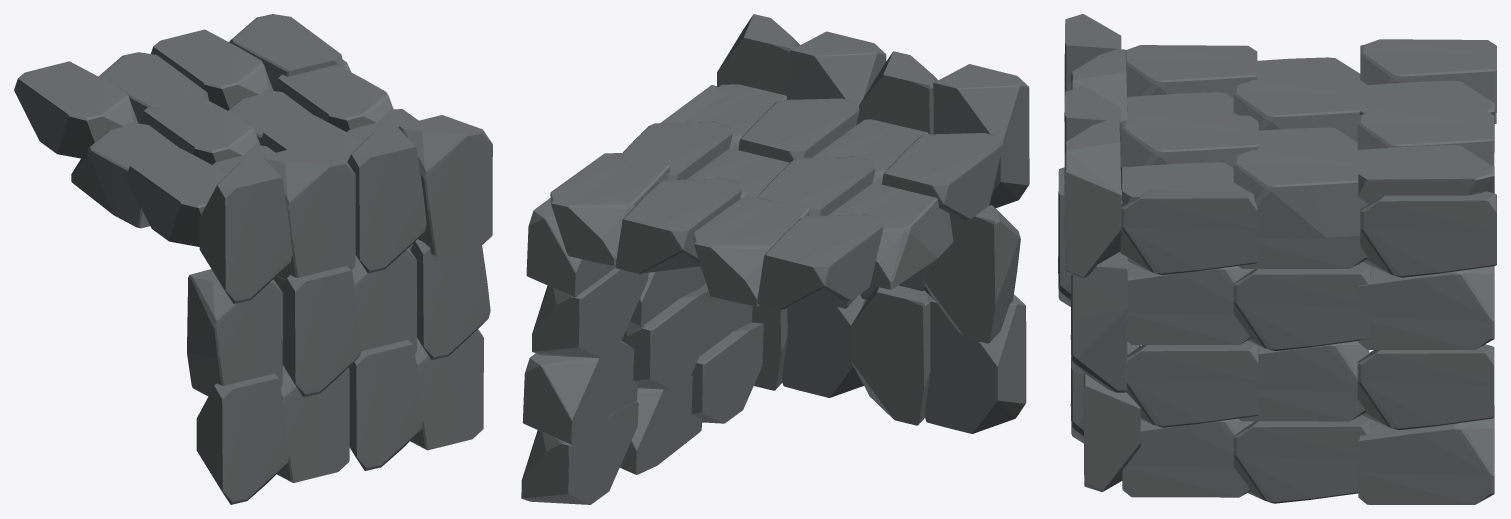
File: CavePlatformLeft.fbx
The picture shows the model from 3 angles, left to right: view 1: azimuth 30°, elevation 25°; view 2: azimuth 150°, elevation 25°; view 3: azimuth 270°, elevation 25°; orthographic projection. The views are drawn at different scales.
Visible parts, largest first — view 1: Rock 4.038; view 2: Rock 4.038; view 3: Rock 4.038.
Part boxes in pixels (x1=…): Rock 4.038: x1=14, y1=14, x2=492, y2=504; Rock 4.038: x1=521, y1=14, x2=1029, y2=504; Rock 4.038: x1=1058, y1=14, x2=1496, y2=504.
Bounding box in the file's own units: 1451 × 1568 × 1771.
